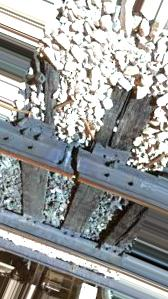tracks_fault: (47, 131, 90, 186)
